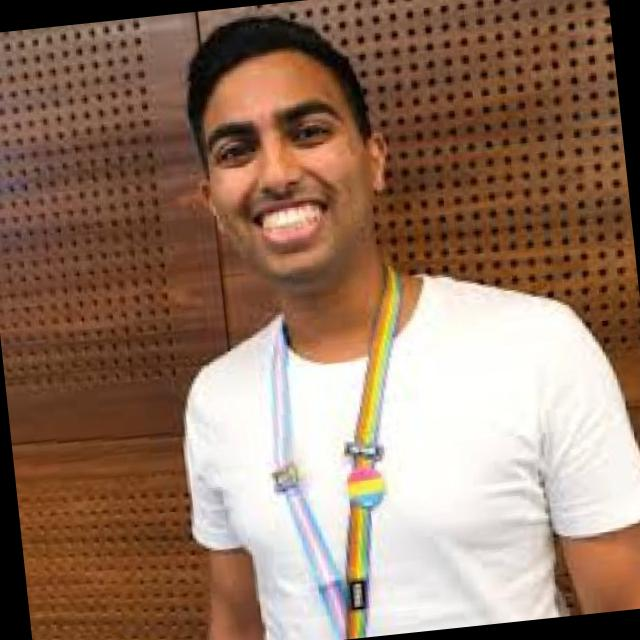id_card: (248, 263, 448, 640)
